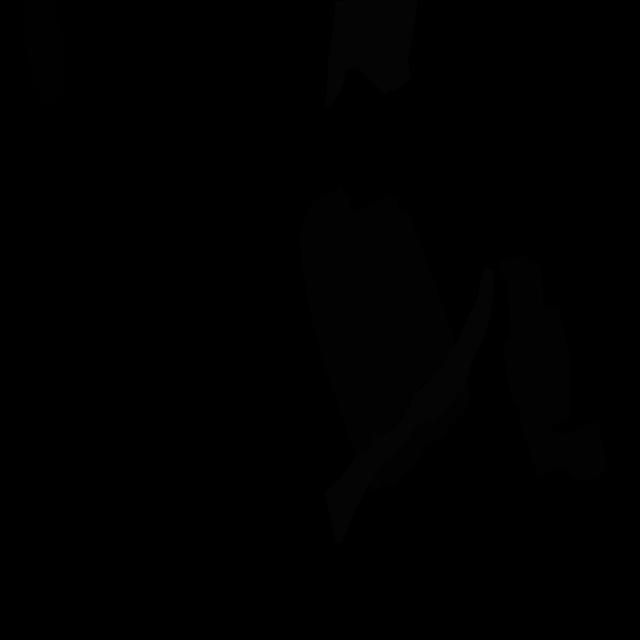cardboard: (300, 184, 455, 456), (498, 256, 608, 482), (370, 385, 472, 491)
rigid_plastic: (24, 0, 67, 106)
soft_plastic: (325, 269, 494, 543), (324, 0, 418, 108)
